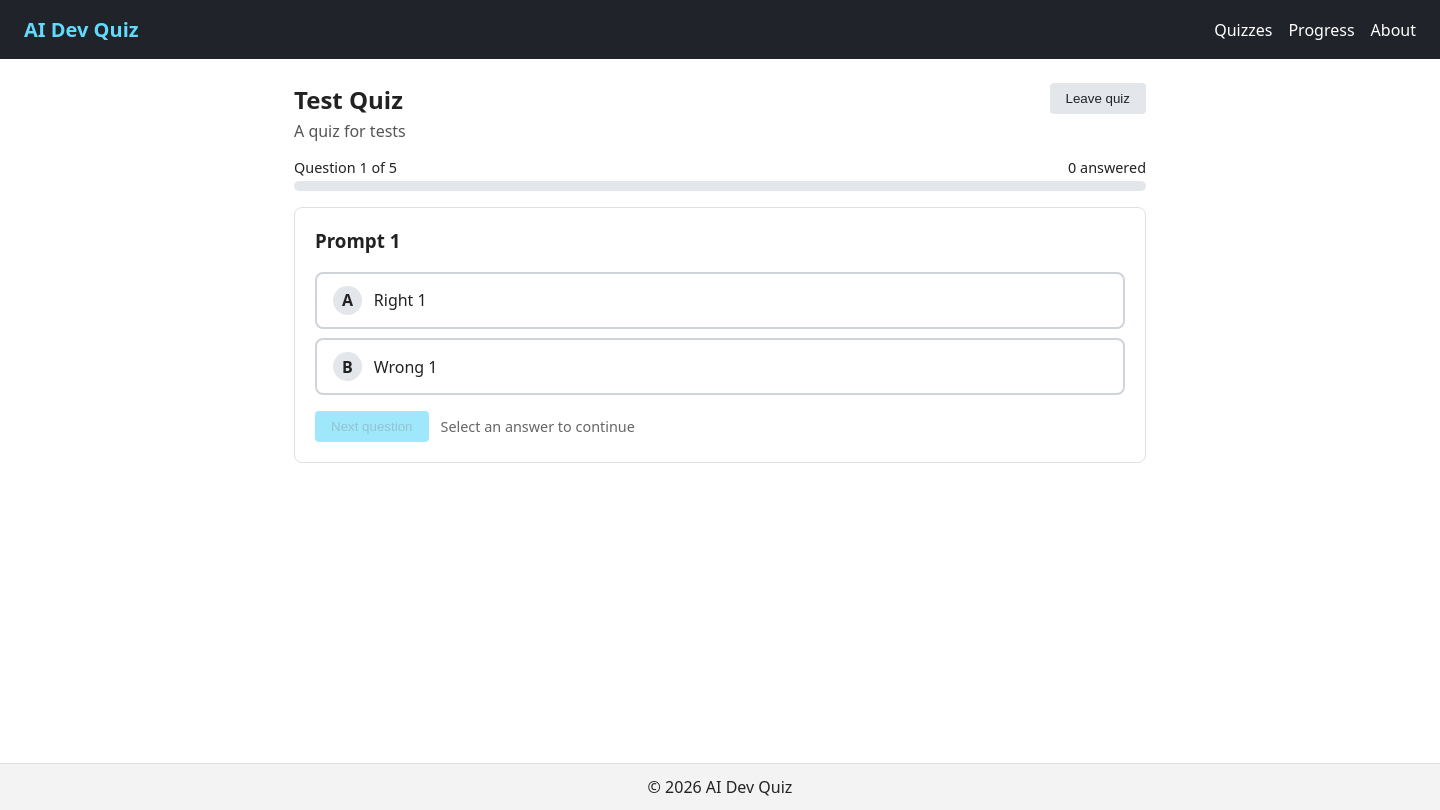
Test: Quiz flow › restart asks for confirmation and clears answers
The image size is (1440, 810).
Expected: the heading "Test Quiz" is shown, left=294, top=83, right=406, bottom=116
Click the button "A Right 1" at (400, 300), box left=315, top=272, right=1125, bottom=328
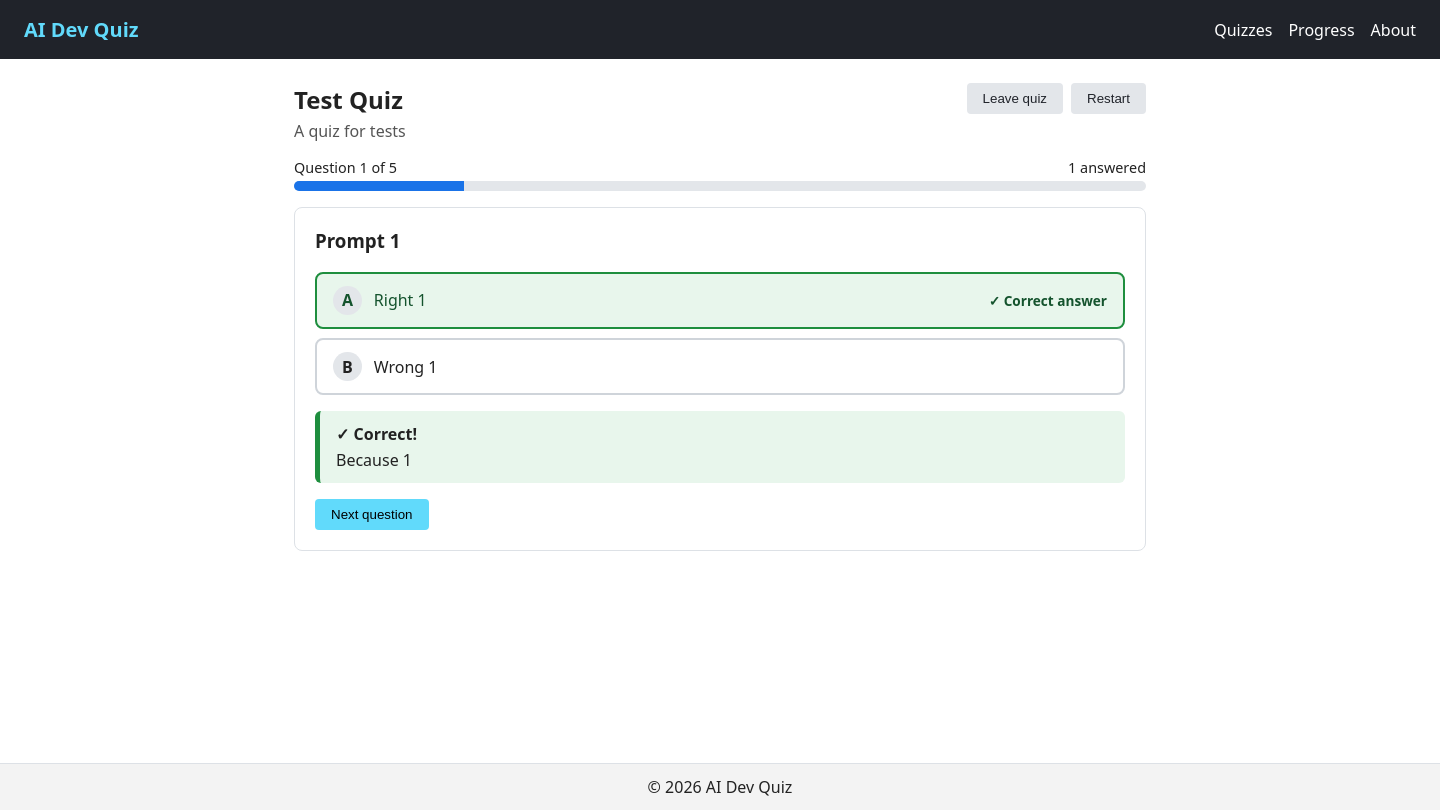
Click the button "Restart" at (1108, 98), box left=1071, top=83, right=1146, bottom=114
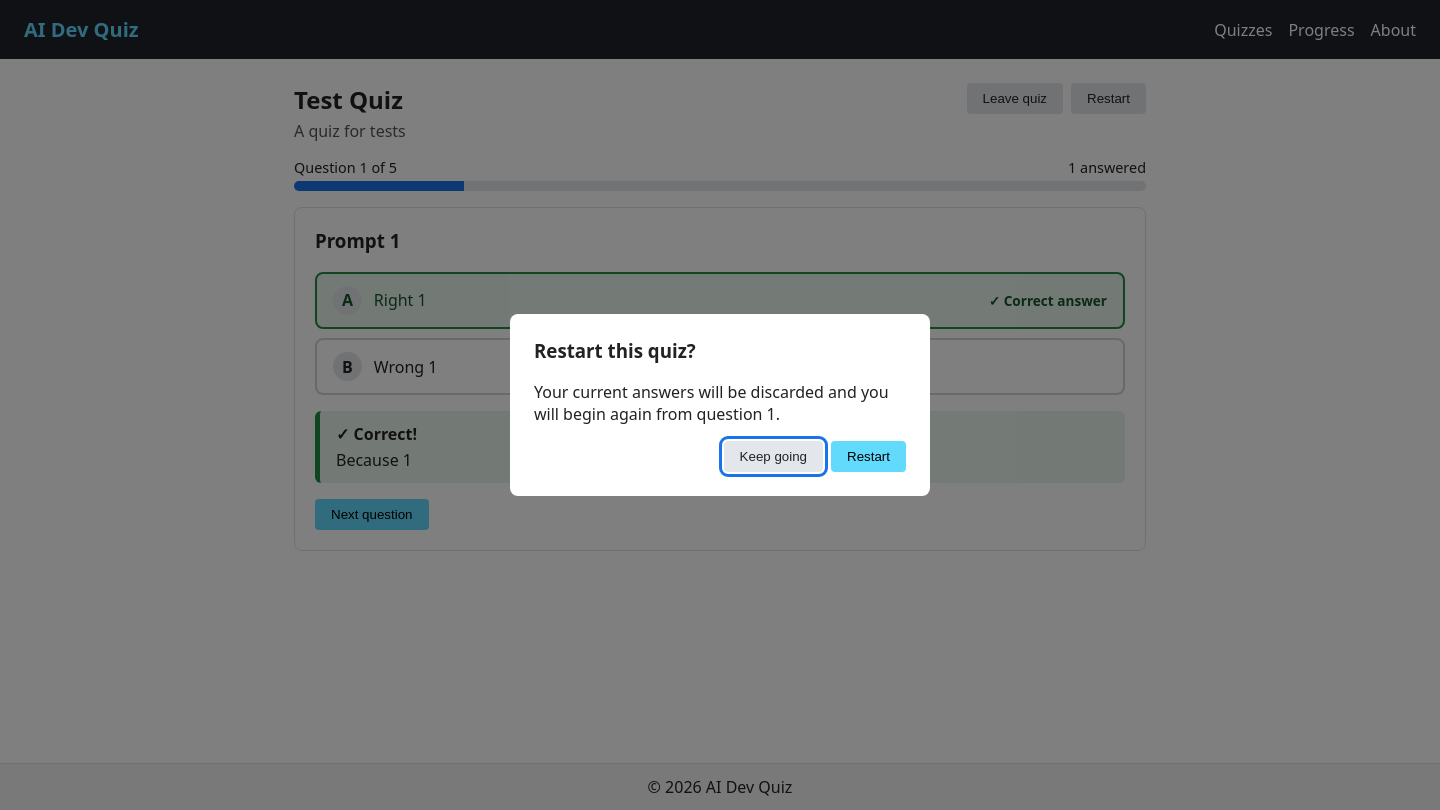
Click the button "Restart" at (868, 457), box left=831, top=441, right=906, bottom=472
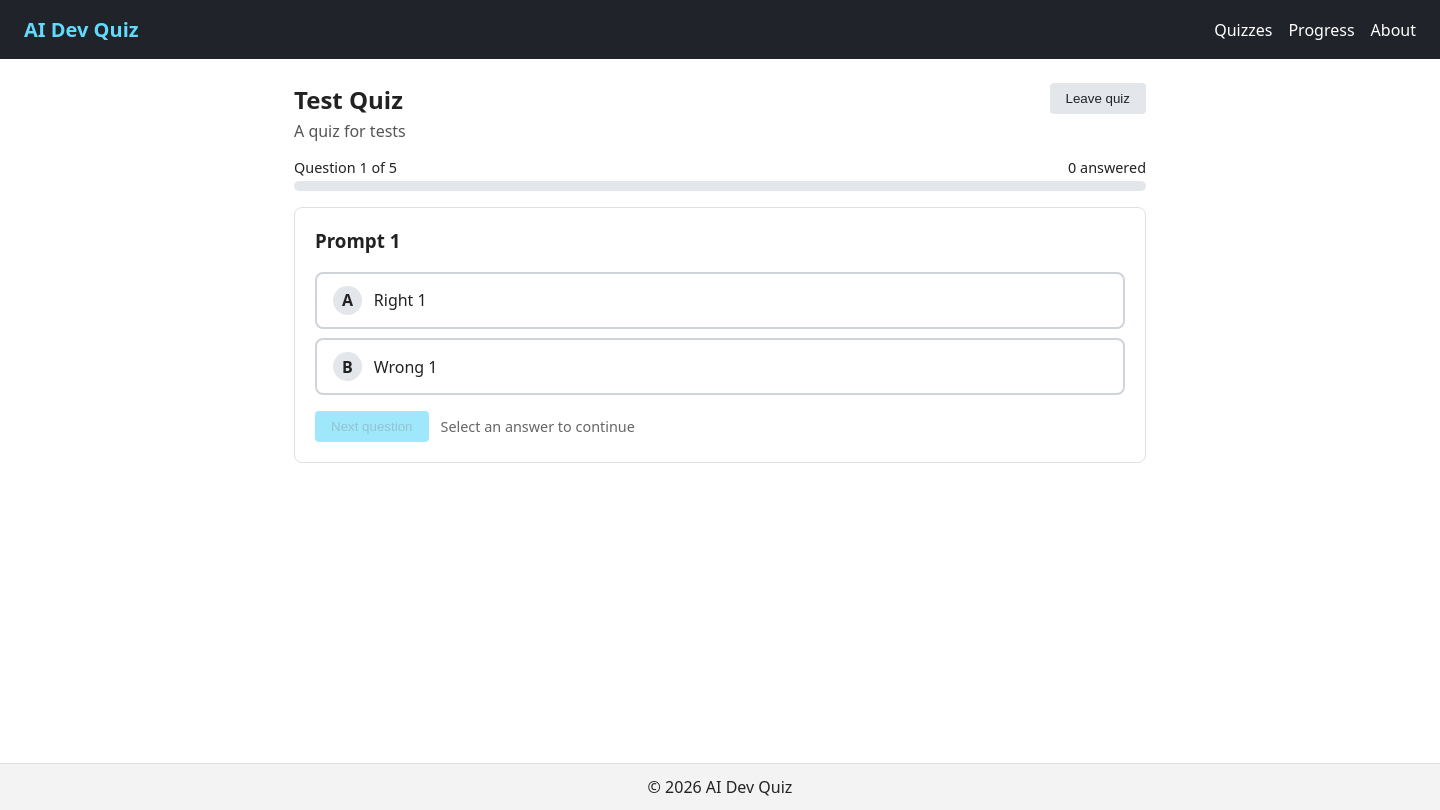
Expected: the text "0 answered" is shown, left=1068, top=158, right=1146, bottom=177
Expected: the dialog is gone
